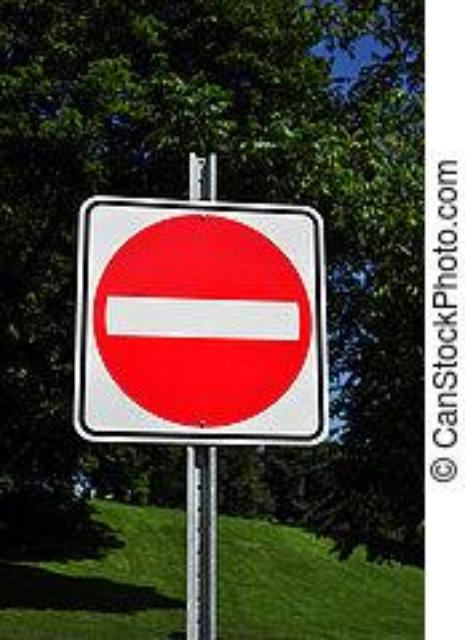B2: (94, 212, 314, 430)
